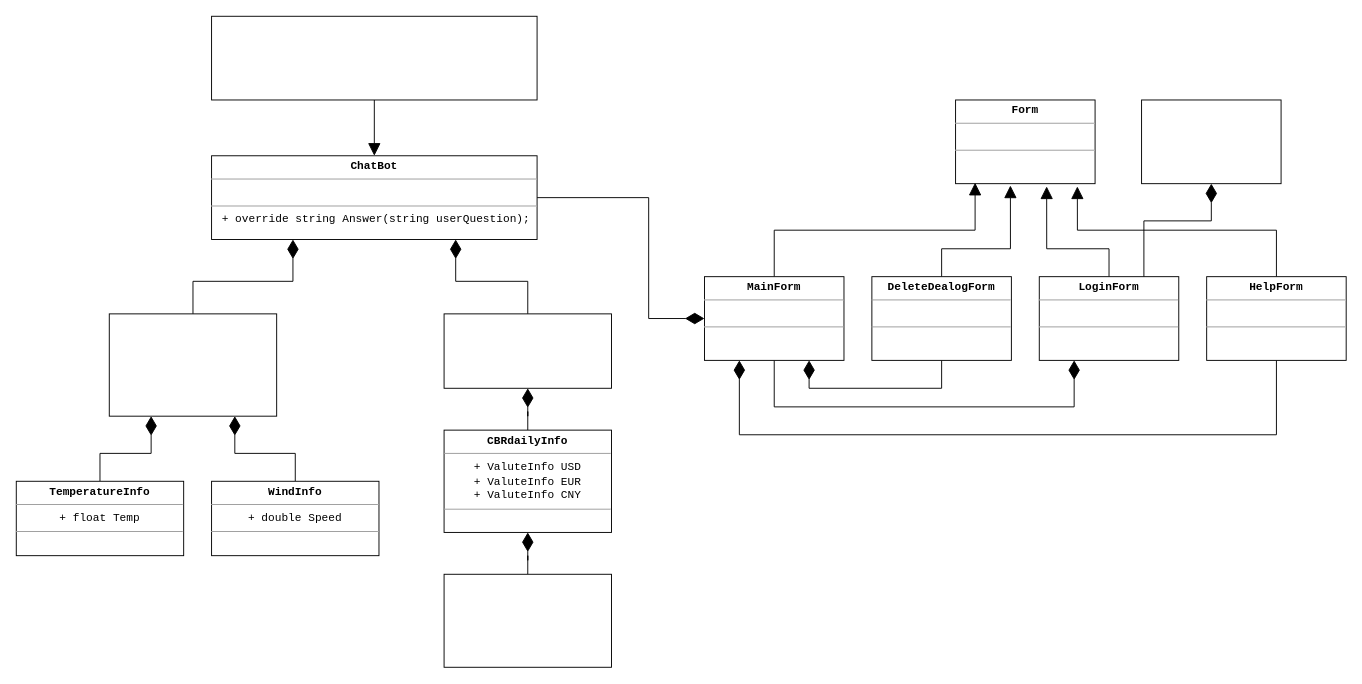
Image size: 1362x684. Some labels were removed from this diagram. The shapes that lost their labels are listed below. From the top down, each one's centre as x and y in pixels, then its label:
the point at 374,57: AbstractChatBot + abstract string Answer(string userQuestion);
the point at 1211,141: Program
the point at 192,364: WeatherResponse + TemperatureInfo Main + string Name + WindInfo Wind
the point at 527,350: CBRdailyResponse + CBRdailyInfo Valute
the point at 527,620: ValuteInfo + string Name + float Value
